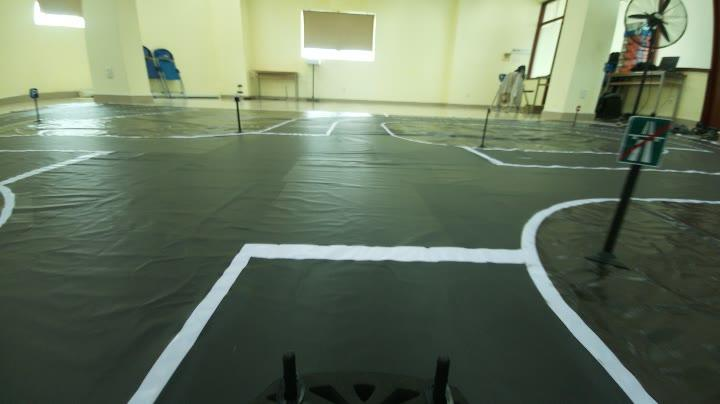highway_exit: (620, 106, 672, 181)
